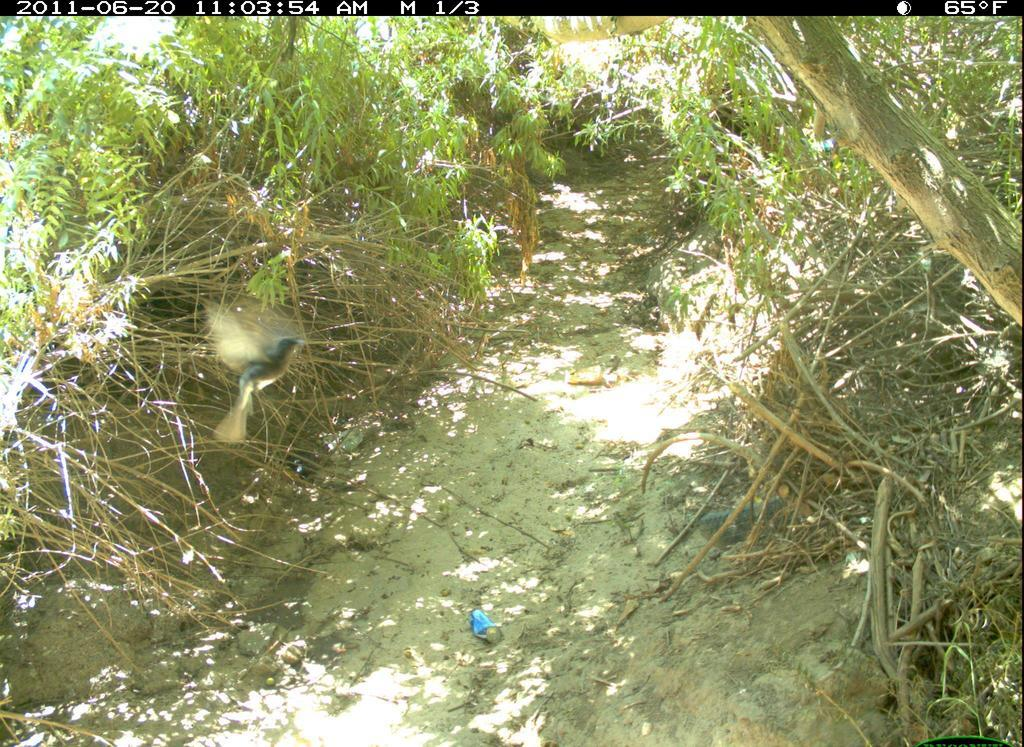bird: (198, 290, 316, 450)
